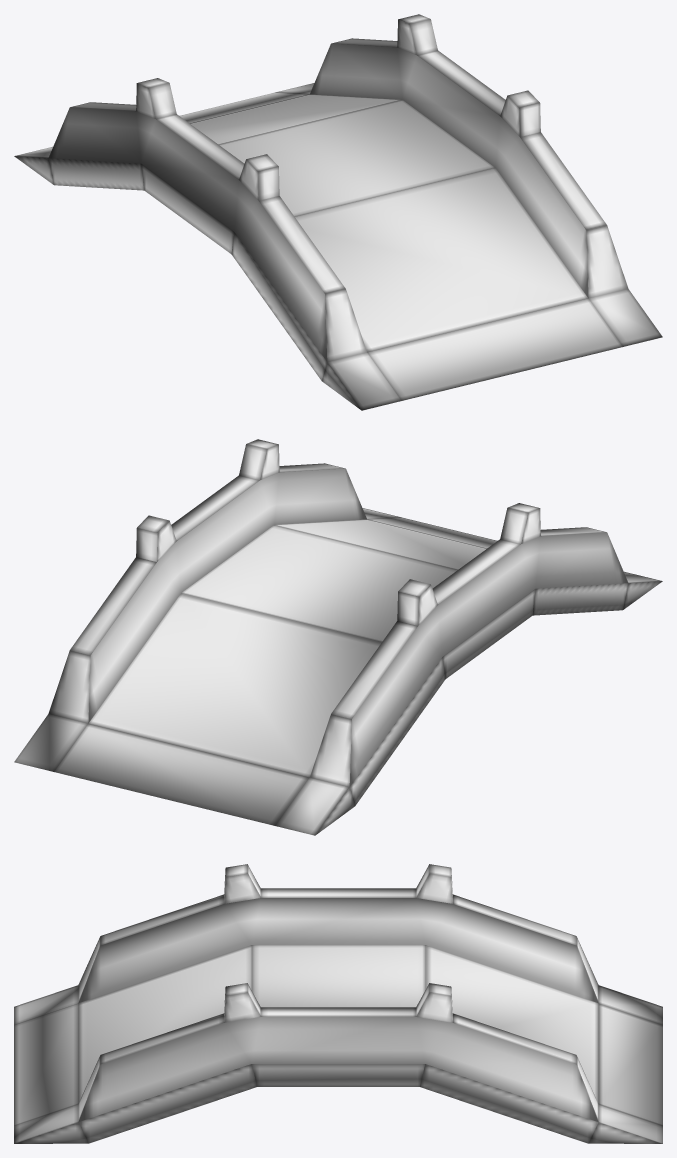
File: Bridge-Old-01.fbx
3 renders of one model, top to bottom at view 1: azimuth 30°, elevation 25°; view 2: azimuth 150°, elevation 25°; view 3: azimuth 270°, elevation 25°, orthographic. The views are drawn at different scales.
Parts seen in each view (by area): view 1: Bridge; view 2: Bridge; view 3: Bridge.
Boxes of the visible parts, x1,y1,x2,y2 form: Bridge: (14, 14, 662, 410); Bridge: (14, 439, 662, 835); Bridge: (14, 864, 662, 1143).
Size of the model in its own units: 1 by 0.5 by 2.
